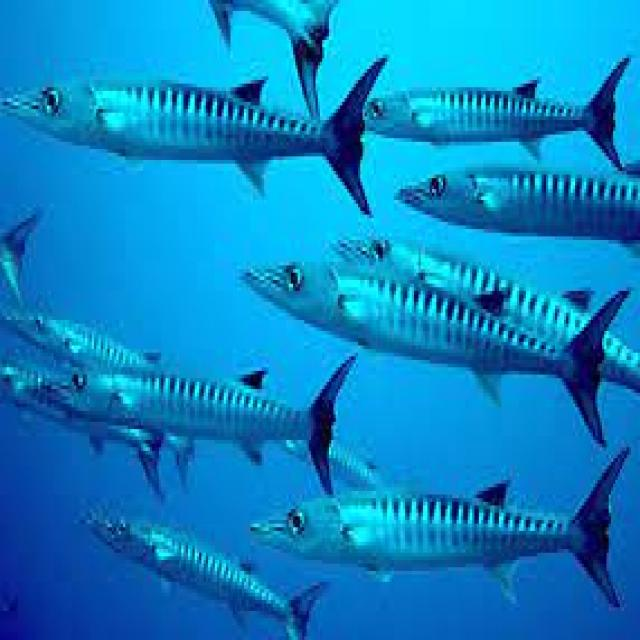Barracuda: (235, 254, 640, 451), (248, 440, 629, 615), (2, 55, 390, 218), (322, 229, 640, 396), (34, 346, 360, 498), (69, 505, 329, 640), (361, 51, 634, 171), (391, 153, 640, 262), (2, 345, 168, 502), (206, 4, 340, 120), (2, 309, 170, 382), (2, 200, 43, 309), (146, 422, 203, 491)
